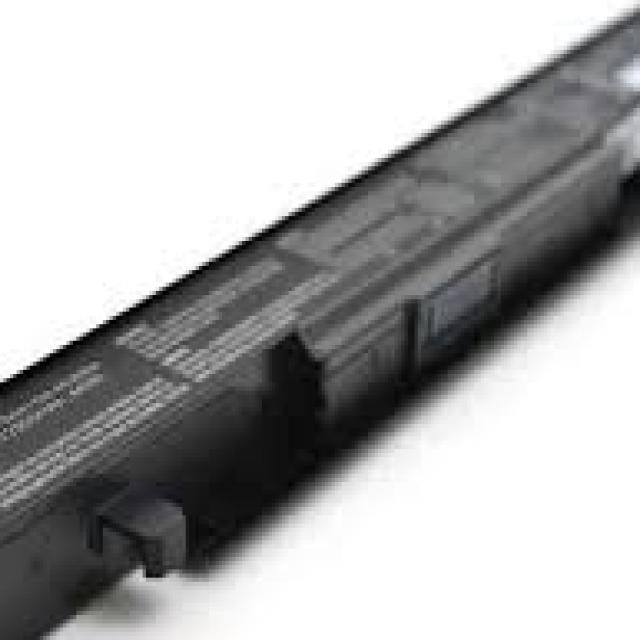organic: (1, 81, 634, 624)
